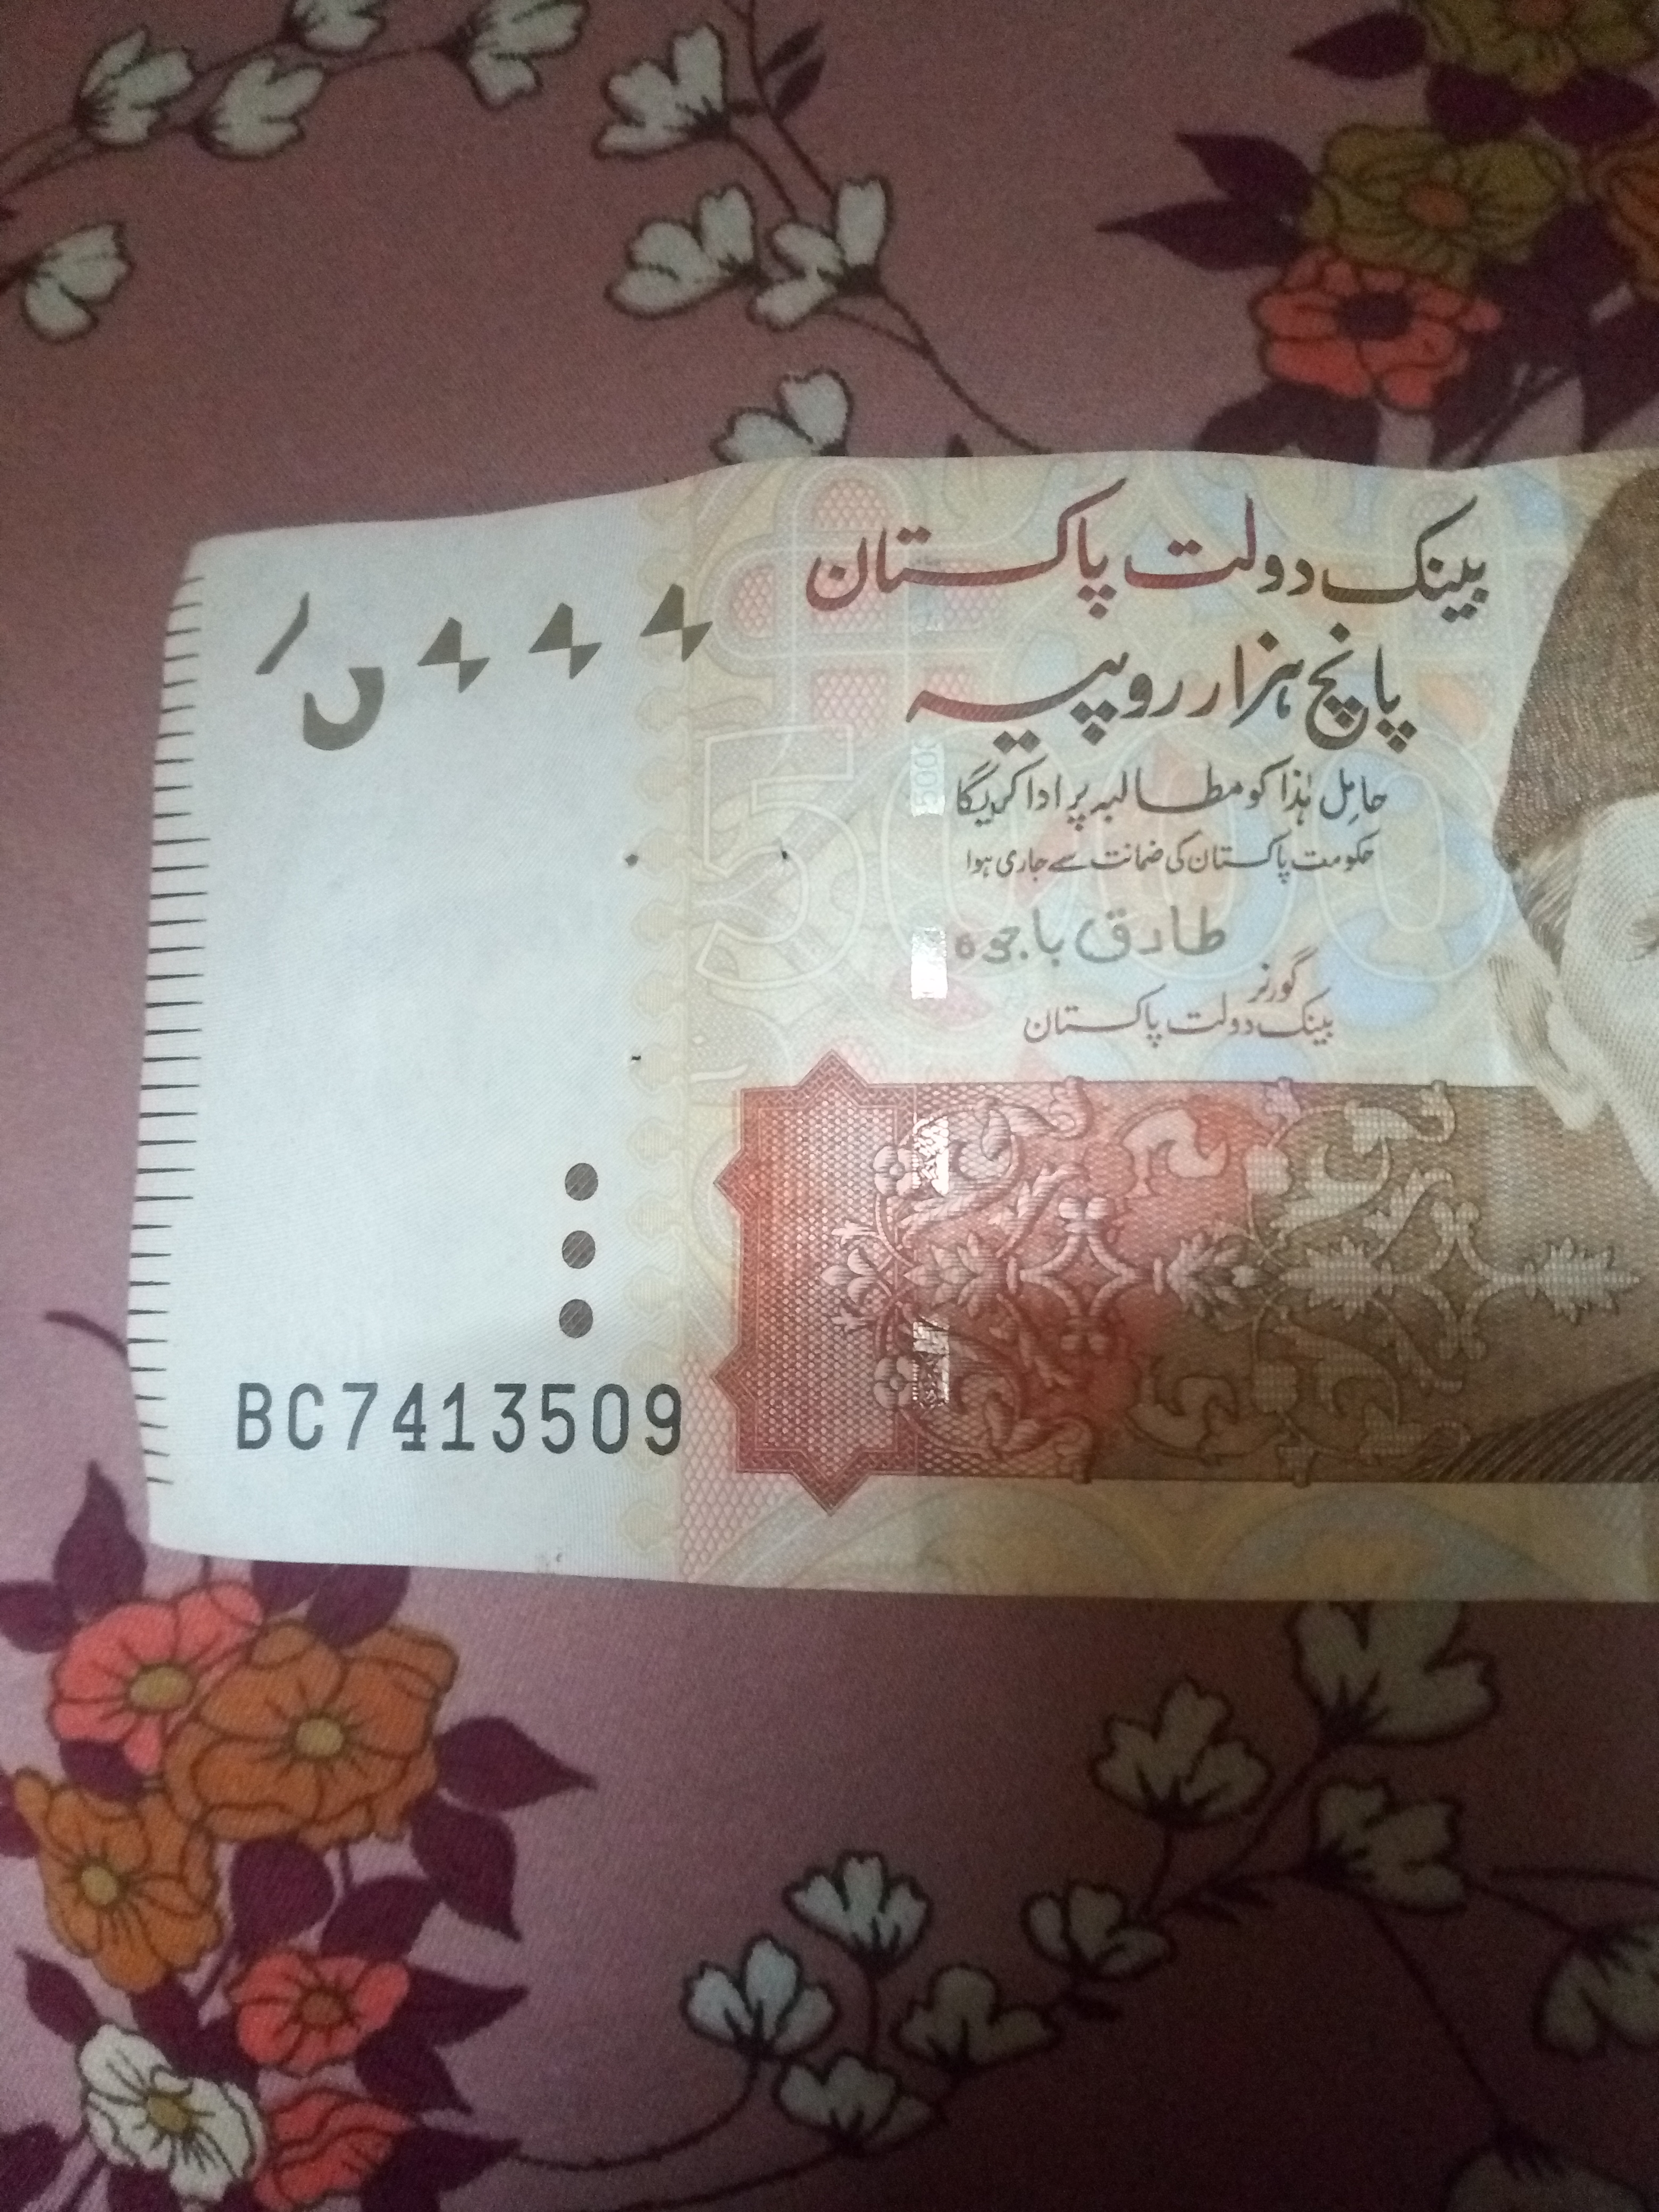5000 rupee: (85, 451, 1654, 1604), (476, 1083, 735, 1388)
